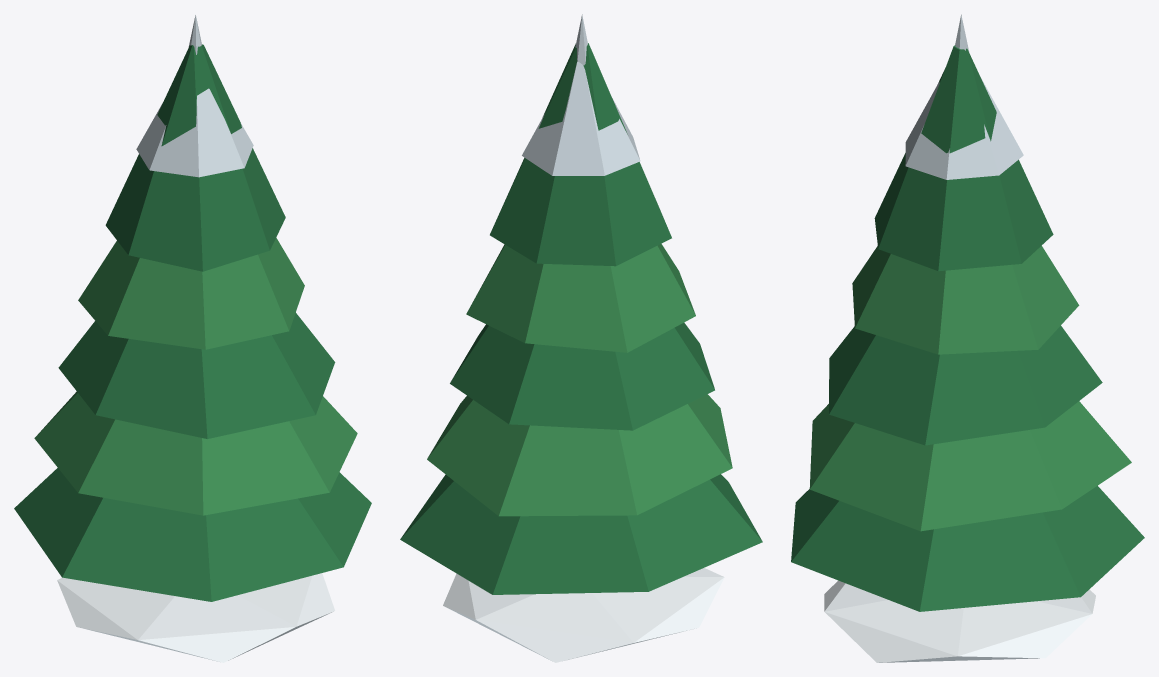
Rendered from fir_tree_large.glb.
3 views of the same model, side by side, from view 1: azimuth 30°, elevation 25°; view 2: azimuth 150°, elevation 25°; view 3: azimuth 270°, elevation 25° (orthographic).
Parts seen in each view (by area): view 1: fir_tree_large; view 2: fir_tree_large; view 3: fir_tree_large.
Boxes of the visible parts, box(x1,y1,x2,y2) form: fir_tree_large: box(14, 15, 371, 662); fir_tree_large: box(400, 14, 762, 662); fir_tree_large: box(791, 14, 1144, 662).
Bounding box in the file's own units: 2.04 × 3.71 × 1.97.
